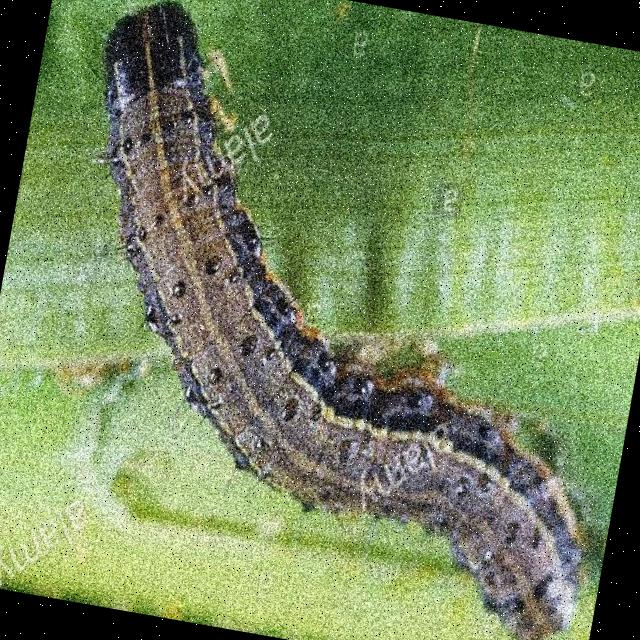worm: (15, 1, 640, 640)
